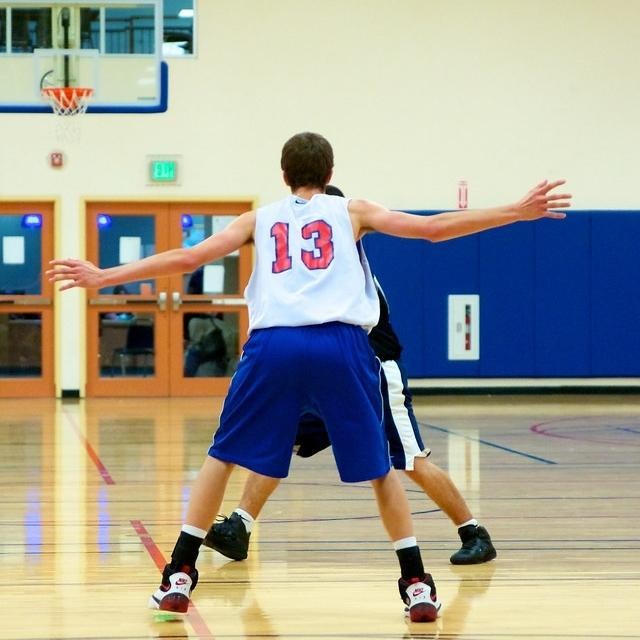hoop: (44, 85, 93, 144)
